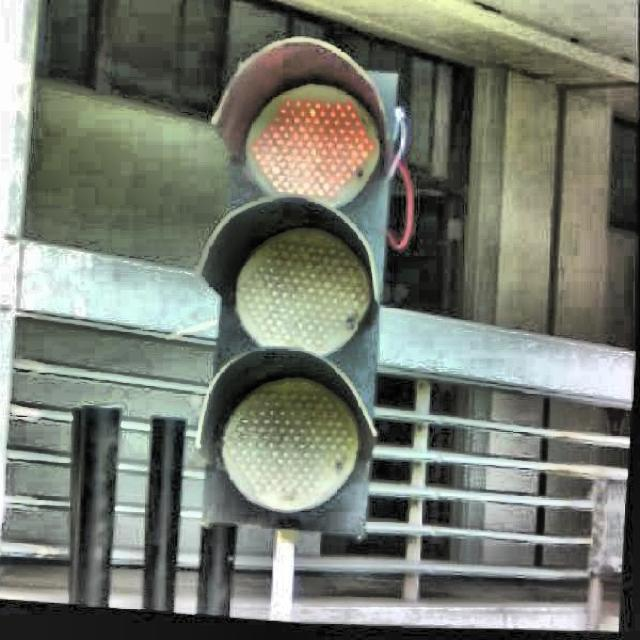red: (209, 50, 381, 527)
